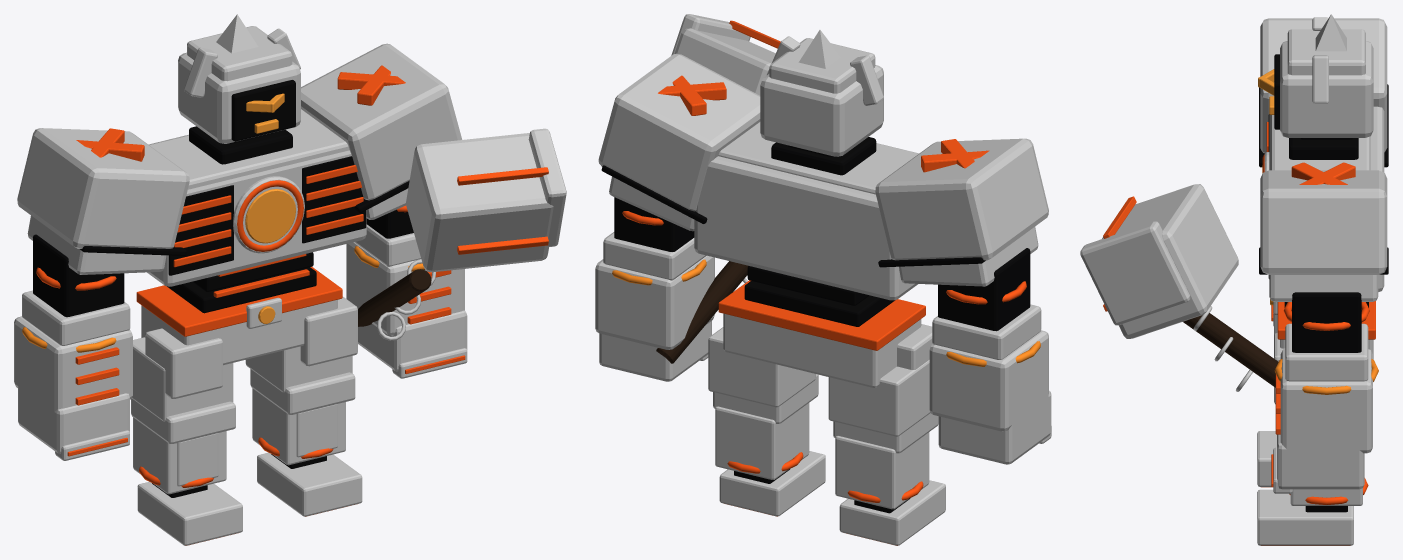
File: IGNIS_Golem.obj
3 renders of one model, left to right at view 1: azimuth 30°, elevation 25°; view 2: azimuth 150°, elevation 25°; view 3: azimuth 270°, elevation 25°, orthographic.
Visible parts, largest first — view 1: Gol_OmbroL, Gol_MartC, Gol_OmbroR, Gol_ManoplaL, Gol_PeitoSup, Gol_Peito, Gol_PeL, Gol_PeR, Gol_PunhoL, Gol_Cinto, Gol_Elmo, Gol_Pelve (+41 smaller); view 2: Gol_Peito, Gol_OmbroL, Gol_OmbroR, Gol_ManoplaL, Gol_Elmo, Gol_ManoplaR, Gol_Pelve, Gol_CoxaL, Gol_CanelaL, Gol_CanelaR, Gol_Cinto, Gol_CoxaR (+31 smaller); view 3: Gol_OmbroR, Gol_MartC, Gol_MartF, Gol_ManoplaR, Gol_Elmo, Gol_PeR, Gol_OmbroL, Gol_BracoR, Gol_PunhoR, Gol_CotovR, Gol_ElmoT, Gol_OmbroBR (+16 smaller).
Part boxes in pixels (bbox=[...]): Gol_OmbroL: bbox=[17, 128, 189, 248]; Gol_MartC: bbox=[405, 133, 553, 272]; Gol_OmbroR: bbox=[301, 43, 462, 200]; Gol_ManoplaL: bbox=[14, 316, 132, 412]; Gol_PeitoSup: bbox=[149, 109, 349, 189]; Gol_Peito: bbox=[147, 134, 366, 286]; Gol_PeL: bbox=[137, 481, 242, 545]; Gol_PeR: bbox=[257, 452, 362, 516]; Gol_PunhoL: bbox=[18, 386, 129, 453]; Gol_Cinto: bbox=[136, 266, 342, 336]; Gol_Elmo: bbox=[178, 52, 300, 143]; Gol_Pelve: bbox=[141, 299, 337, 365]; Gol_Peito: bbox=[694, 156, 917, 300]; Gol_OmbroL: bbox=[875, 138, 1048, 260]; Gol_OmbroR: bbox=[598, 53, 760, 211]; Gol_ManoplaL: bbox=[929, 330, 1048, 431]; Gol_Elmo: bbox=[760, 65, 883, 156]; Gol_ManoplaR: bbox=[595, 255, 714, 349]; Gol_Pelve: bbox=[723, 313, 921, 387]; Gol_CoxaL: bbox=[828, 360, 930, 436]; Gol_CanelaL: bbox=[835, 432, 929, 509]; Gol_CanelaR: bbox=[715, 403, 809, 479]; Gol_Cinto: bbox=[718, 280, 925, 350]; Gol_CoxaR: bbox=[708, 327, 815, 407]; Gol_OmbroR: bbox=[1260, 170, 1387, 274]; Gol_MartC: bbox=[1102, 184, 1238, 338]; Gol_MartF: bbox=[1080, 221, 1190, 325]; Gol_ManoplaR: bbox=[1280, 349, 1372, 453]; Gol_Elmo: bbox=[1280, 41, 1373, 137]; Gol_PeR: bbox=[1257, 489, 1353, 545]; Gol_OmbroL: bbox=[1260, 18, 1387, 153]; Gol_BracoR: bbox=[1292, 292, 1361, 352]; Gol_PunhoR: bbox=[1277, 434, 1364, 489]; Gol_CotovR: bbox=[1285, 323, 1368, 381]; Gol_ElmoT: bbox=[1287, 29, 1365, 75]; Gol_OmbroBR: bbox=[1269, 275, 1378, 301].
Size of the model in its own units: 34.09 by 35.76 by 20.42.
